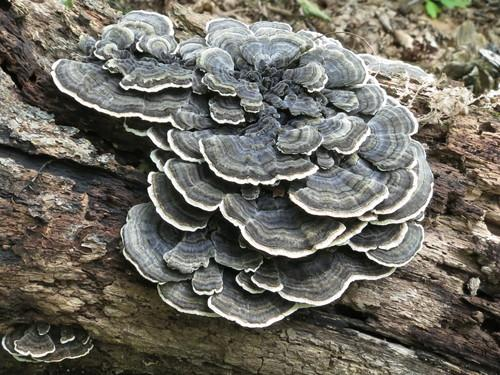Non-edible Mushroom: (49, 8, 435, 329)
